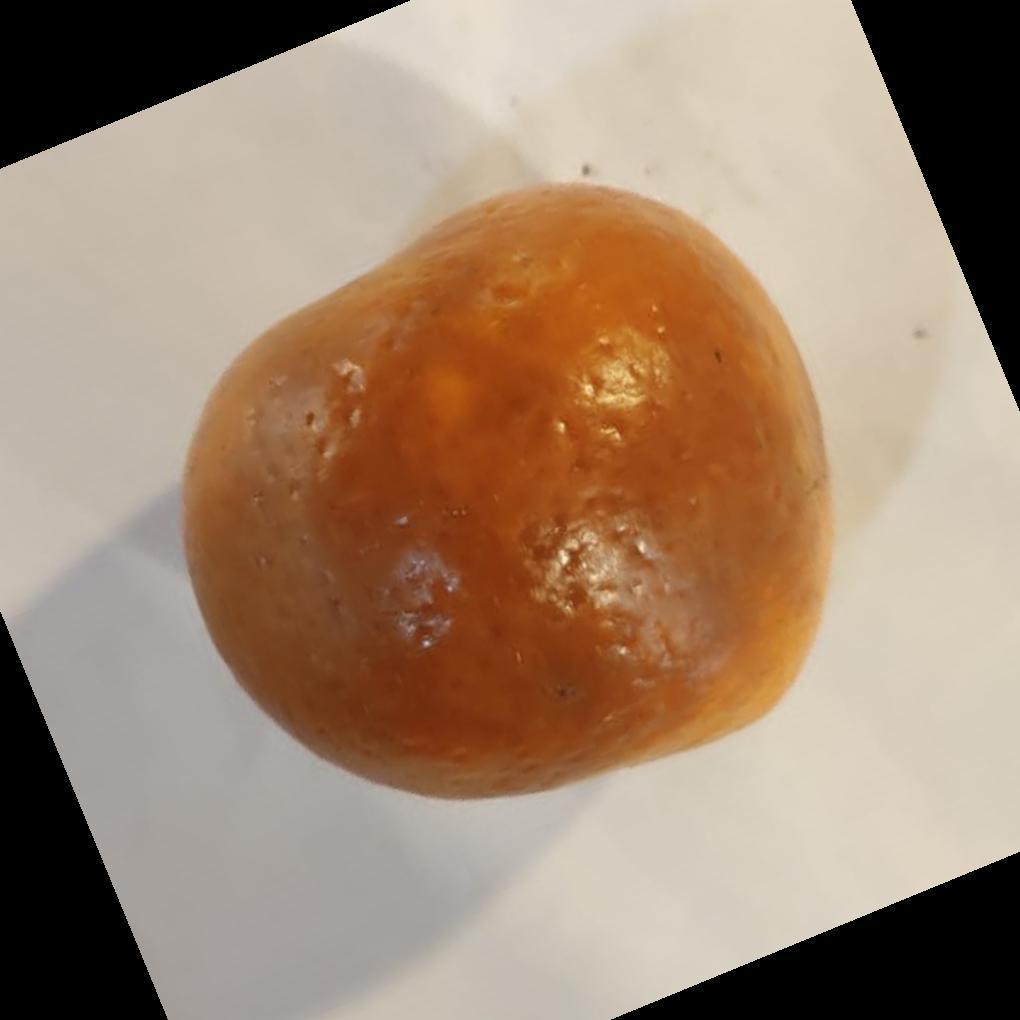FreshOrange: (178, 183, 835, 805)
